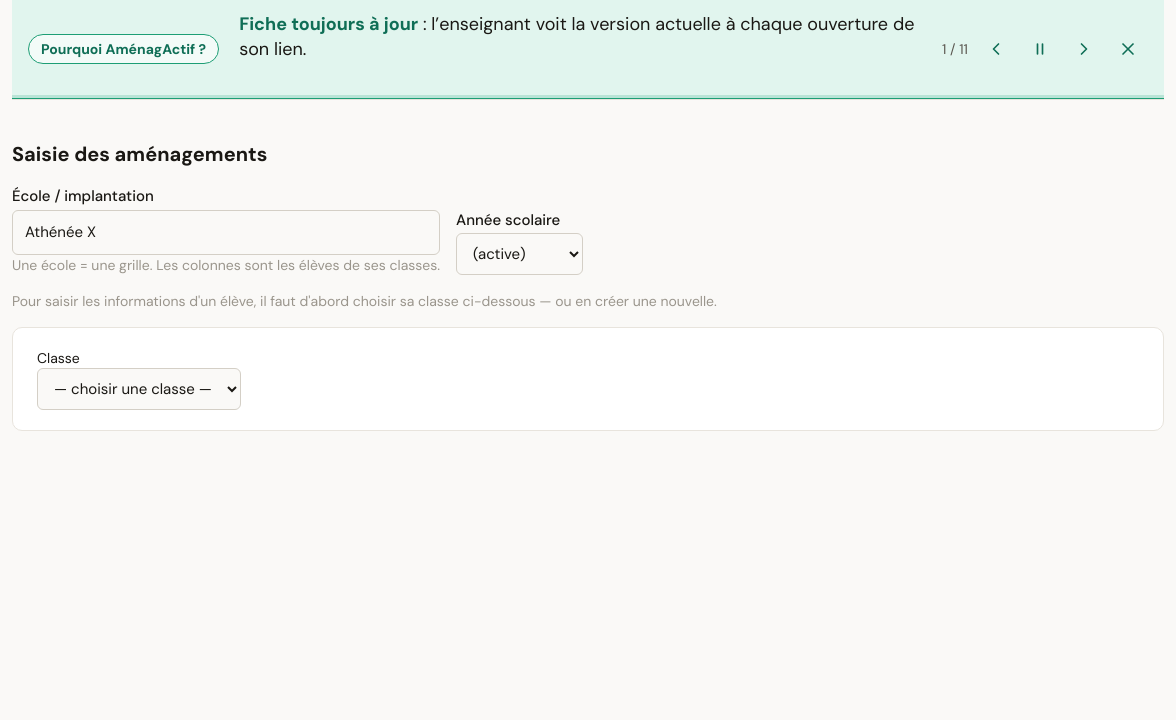
SaisieEcole : dispositifs › (e) agent accompagnant : radios désactivées
The width and height of the screenshot is (1176, 720).
Select "5LA — 5e" in the dropdown labelled "Classe" at (139,389), box [37,368,241,410]
(page scrolled)
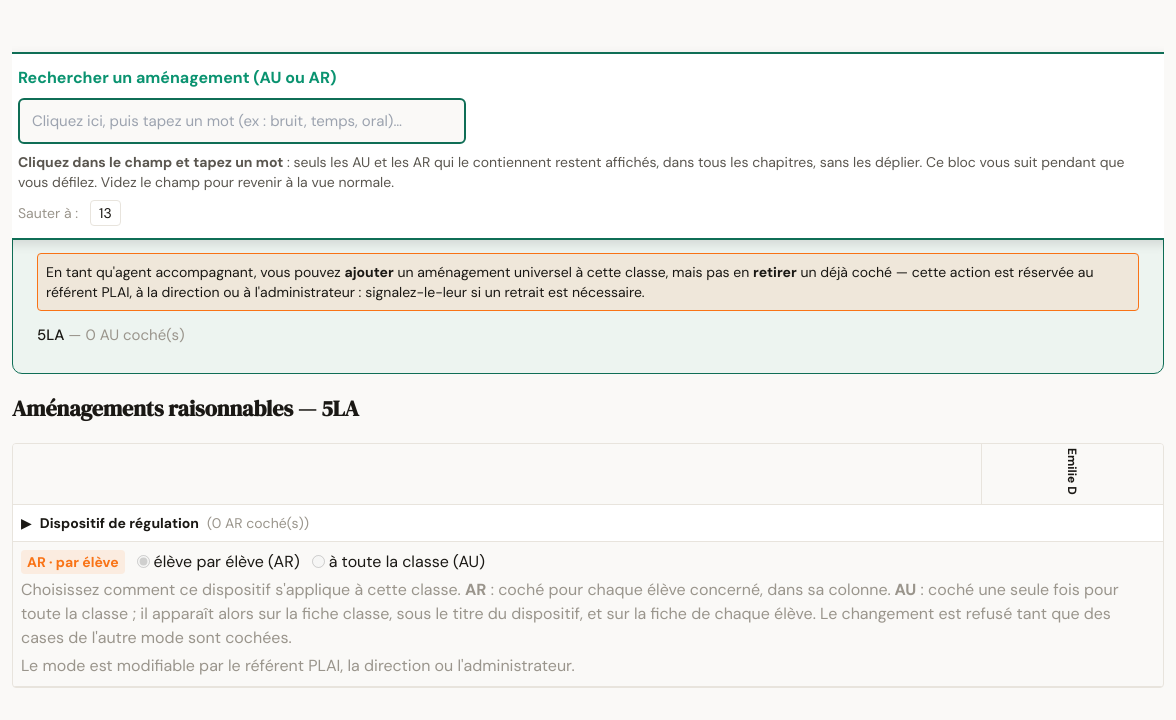
Expected: the number of radio buttons is 2, [137,555,150,568]; [312,555,325,568]
Expected: the radio button labelled "élève par élève (AR)" is disabled, [137,555,150,568]
Expected: the radio button labelled "à toute la classe (AU)" is disabled, [312,555,325,568]
